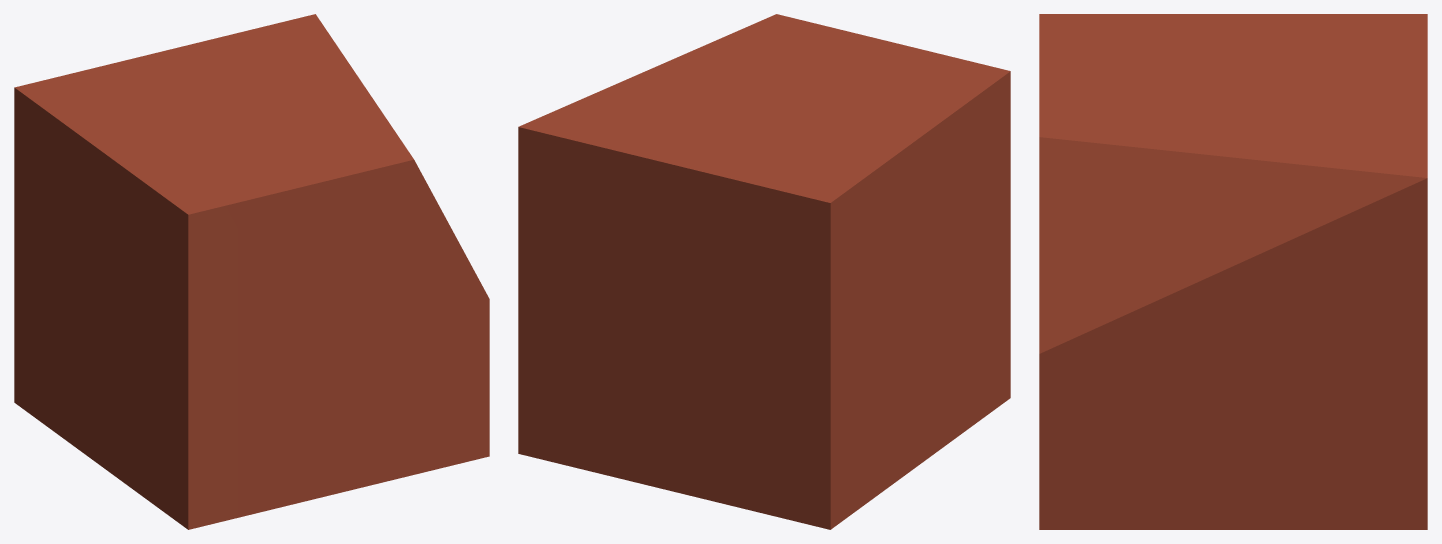
Rendered from r5c4_body_brown.gltf.
3 renders of one model, left to right at view 1: azimuth 30°, elevation 25°; view 2: azimuth 150°, elevation 25°; view 3: azimuth 270°, elevation 25°, orthographic. The views are drawn at different scales.
Parts seen in each view (by area): view 1: r5c4_body_brown; view 2: r5c4_body_brown; view 3: r5c4_body_brown.
Boxes of the visible parts, x1=… form: r5c4_body_brown: x1=14, y1=14, x2=489, y2=529; r5c4_body_brown: x1=518, y1=14, x2=1010, y2=529; r5c4_body_brown: x1=1039, y1=14, x2=1427, y2=529.
Size of what is drawn, in the model's own units: 2 by 2 by 2.
Materials: 1 (1 with a texture image).
